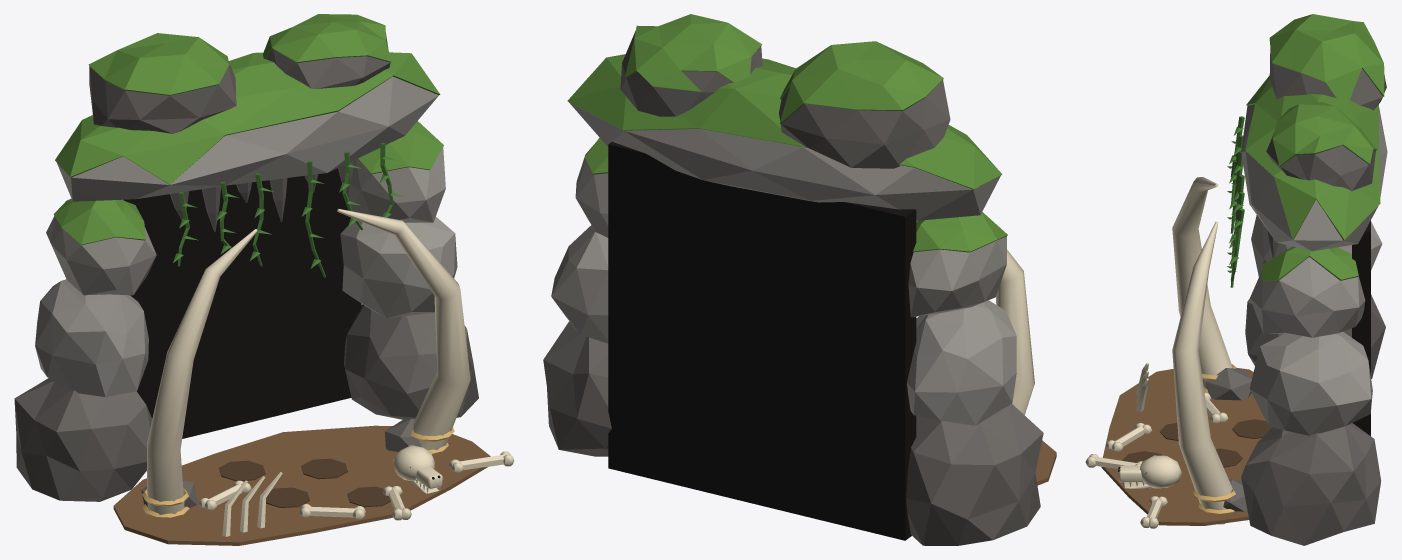
The model's file is mammoth-cave.glb.
3 views of the same model, side by side, from view 1: azimuth 30°, elevation 25°; view 2: azimuth 150°, elevation 25°; view 3: azimuth 270°, elevation 25° (orthographic). The views are drawn at different scales.
Parts seen in each view (by area): view 1: MammothCave_Stone, MammothCave_Dark, MammothCave_StoneDark, MammothCave_Moss, MammothCave_Bone, MammothCave_Dirt, MammothCave_Vines, MammothCave_Footprints, MammothCave_Rope; view 2: MammothCave_Dark, MammothCave_Stone, MammothCave_StoneDark, MammothCave_Moss, MammothCave_Bone, MammothCave_Dirt; view 3: MammothCave_Stone, MammothCave_StoneDark, MammothCave_Moss, MammothCave_Bone, MammothCave_Dirt, MammothCave_Dark, MammothCave_Vines, MammothCave_Footprints, MammothCave_Rope.
Boxes of the visible parts, box(x1,y1,x2,y2) form: MammothCave_Stone: box(35, 76, 457, 396); MammothCave_Dark: box(123, 168, 440, 479); MammothCave_StoneDark: box(14, 32, 478, 507); MammothCave_Moss: box(53, 14, 443, 244); MammothCave_Bone: box(147, 208, 514, 536); MammothCave_Dirt: box(113, 425, 490, 545); MammothCave_Vines: box(173, 143, 404, 277); MammothCave_Footprints: box(219, 458, 390, 507); MammothCave_Rope: box(142, 428, 454, 517); MammothCave_Dark: box(608, 141, 916, 540); MammothCave_Stone: box(551, 102, 1016, 425); MammothCave_StoneDark: box(543, 31, 1043, 545); MammothCave_Moss: box(567, 14, 1007, 252); MammothCave_Bone: box(996, 249, 1034, 414); MammothCave_Dirt: box(916, 416, 1056, 485); MammothCave_Stone: box(1241, 104, 1387, 435); MammothCave_StoneDark: box(1205, 49, 1386, 545); MammothCave_Moss: box(1245, 14, 1384, 281); MammothCave_Bone: box(1085, 177, 1232, 528); MammothCave_Dirt: box(1101, 367, 1265, 525); MammothCave_Dark: box(1118, 220, 1370, 474); MammothCave_Vines: box(1227, 116, 1244, 287); MammothCave_Footprints: box(1122, 419, 1272, 467); MammothCave_Rope: box(1193, 364, 1235, 513).
Size of the model in its own units: 14.87 by 14.03 by 9.61.
